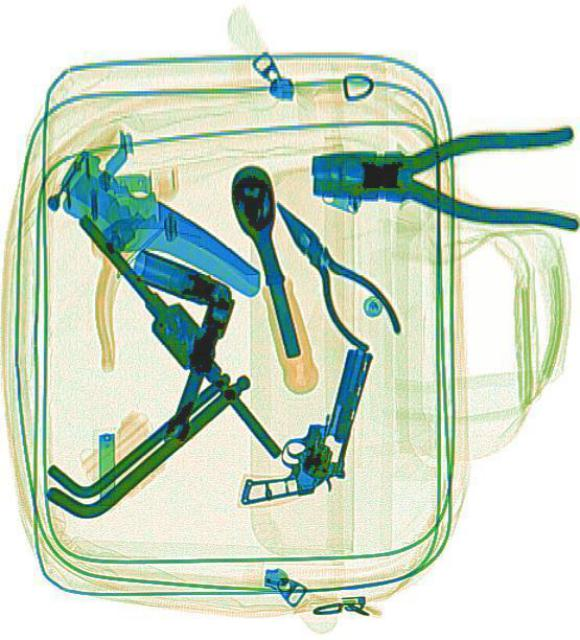Gun: (237, 327, 375, 527)
Pliers: (307, 125, 574, 232), (252, 182, 406, 360)
